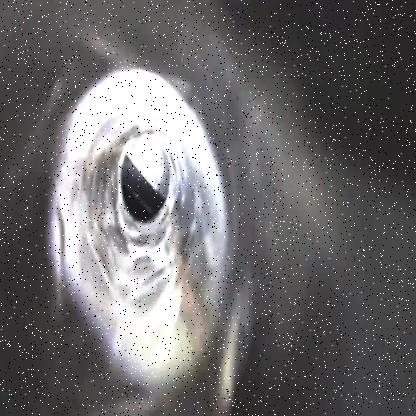Crack: (69, 66, 228, 338)
